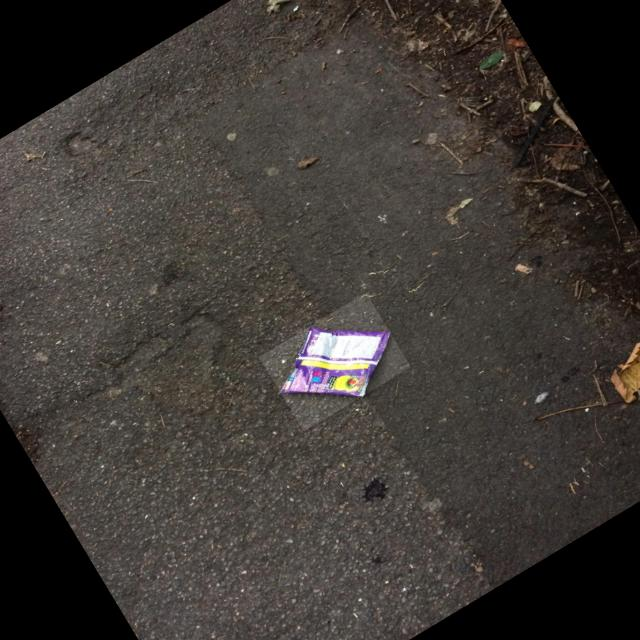Cigarette: (517, 265, 532, 274)
Crisp packet: (280, 327, 390, 396)
